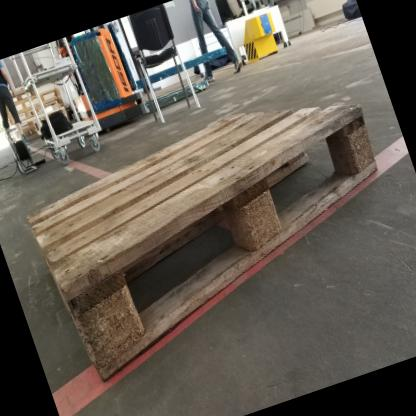BoxFace: (22, 98, 382, 386)
